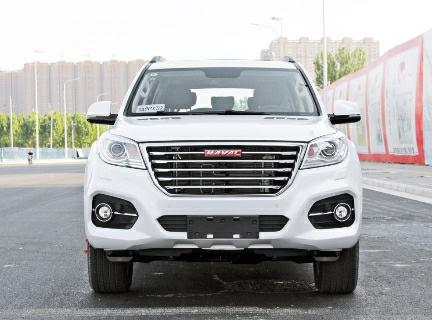哈弗-H3: (78, 52, 369, 300)
